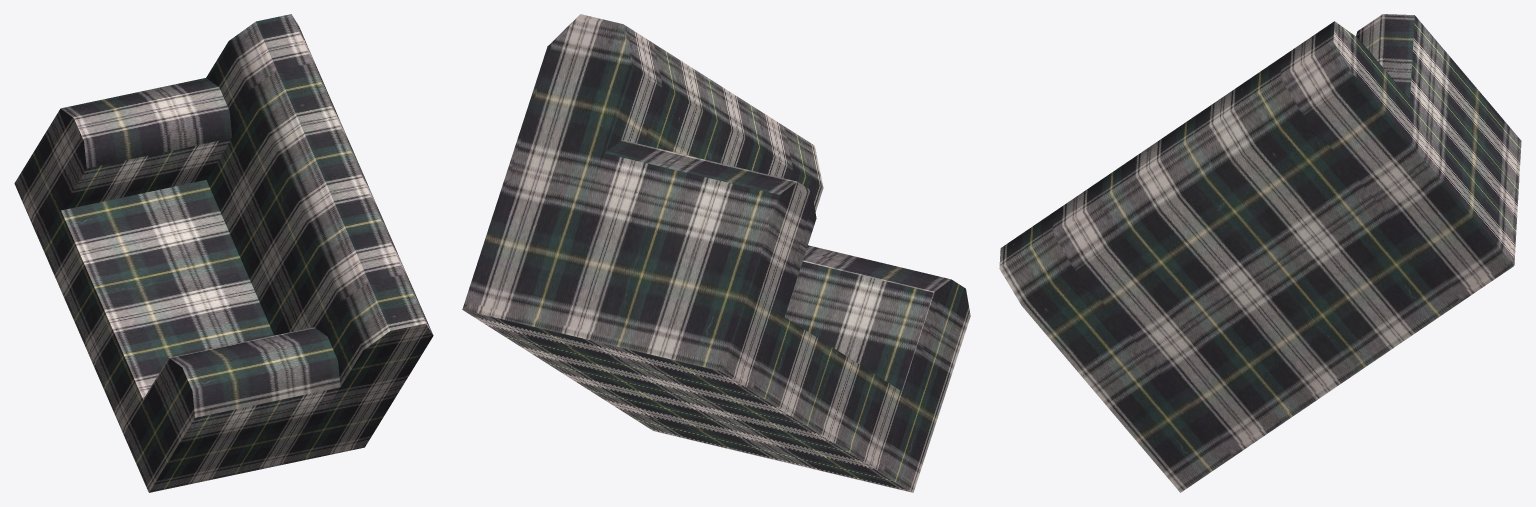
3 views of the same model, side by side, from view 1: azimuth 30°, elevation 25°; view 2: azimuth 150°, elevation 25°; view 3: azimuth 270°, elevation 25° (orthographic). The views are drawn at different scales.
Visible parts, largest first — view 1: Cube181_Fabric_01_0; view 2: Cube181_Fabric_01_0; view 3: Cube181_Fabric_01_0.
Boxes of the visible parts, x1,y1,x2,y2 form: Cube181_Fabric_01_0: (14,14,433,492); Cube181_Fabric_01_0: (462,14,970,492); Cube181_Fabric_01_0: (999,14,1521,492).
Bounding box in the file's own units: 1.67 × 2.78 × 2.94.
1 material, 1 textured.
